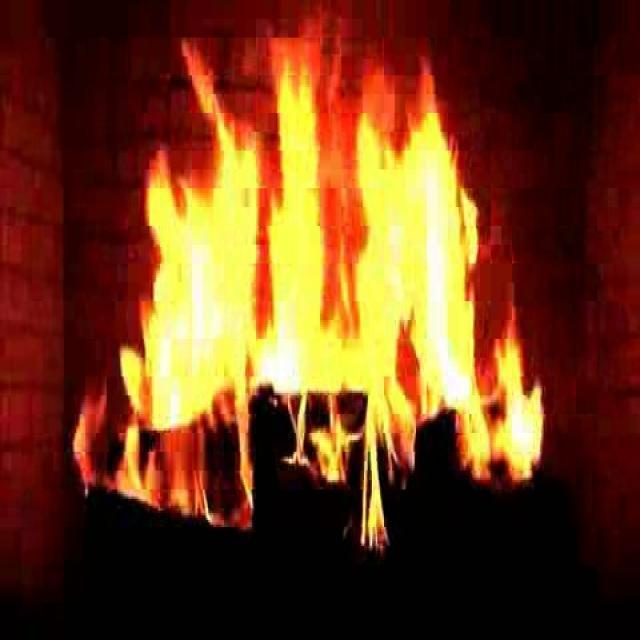Fire: (122, 71, 542, 526)
